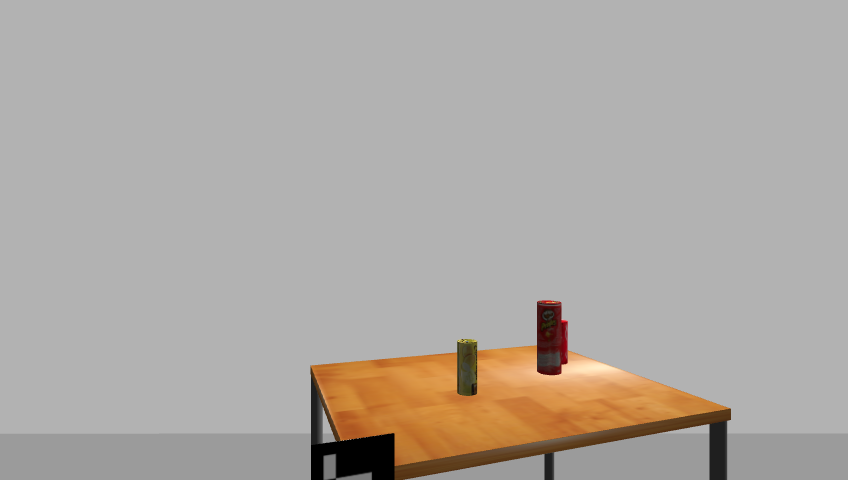aruco marker: (306, 433, 400, 480)
biscuits pack: (455, 338, 480, 397)
coke can: (557, 319, 571, 365)
dinner table: (301, 343, 739, 480)
pringles can: (535, 300, 563, 377)
